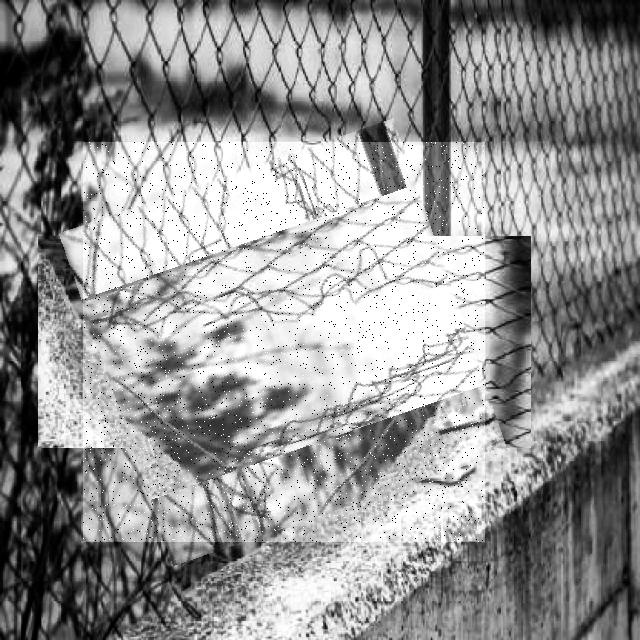anomaly-fence: (83, 142, 485, 542)
